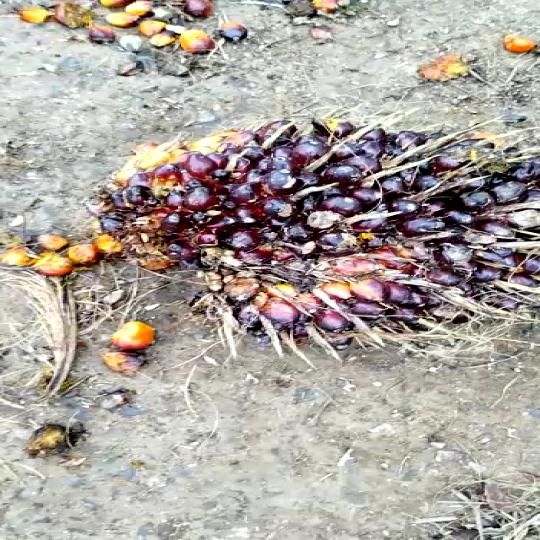mentah: (93, 107, 540, 357)
